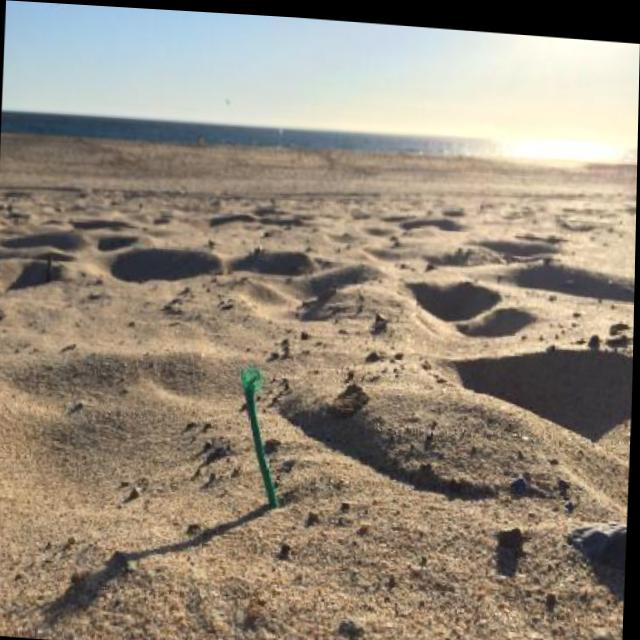other: (233, 362, 283, 509)
